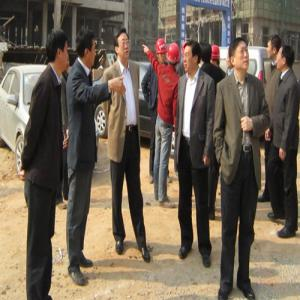none: (45, 28, 70, 75), (76, 27, 97, 69), (229, 35, 251, 75), (183, 40, 201, 75), (114, 26, 132, 60), (276, 45, 296, 72), (268, 31, 283, 61), (200, 41, 213, 67)
red: (168, 41, 181, 69), (155, 37, 168, 64), (211, 44, 222, 67)
